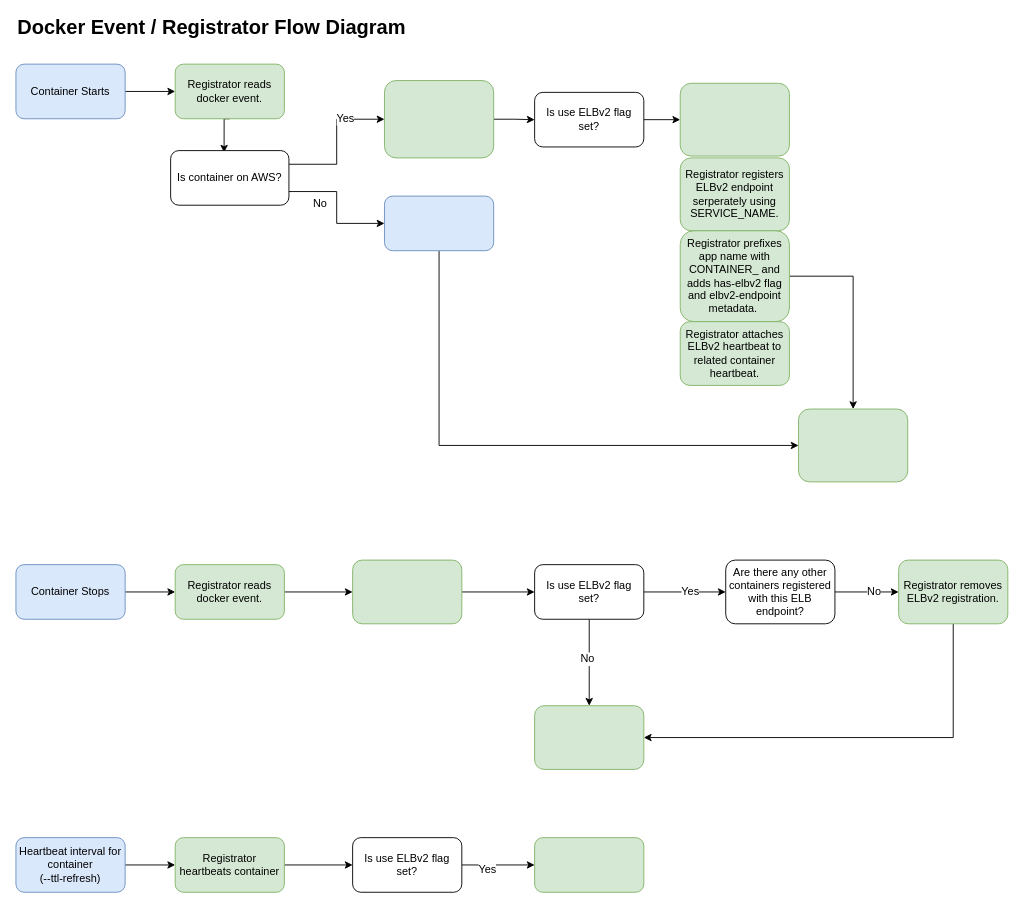
Some shapes in this 1024 by 908 pixel diagram are drawn without their labels. The shapes that lost their labels are listed below. From the top down, each one's centre as x and y in pixels, then its label:
At (x=439, y=119): "Registrator reads AWS metadata about host.".
At (x=734, y=119): "Registrator looks up ELBv2, via instanceID and host port in AWS target group".
At (x=439, y=223): "AWS Metadata not registered.".
At (x=853, y=445): "Registrator adds container to eureka with is-container flag.".
At (x=407, y=591): "Registrator removes eureka entry for container.".
At (x=589, y=737): "Registrator stops heartbeating container.".
At (x=589, y=864): "Registrator heartbeats associated ELBv2".
